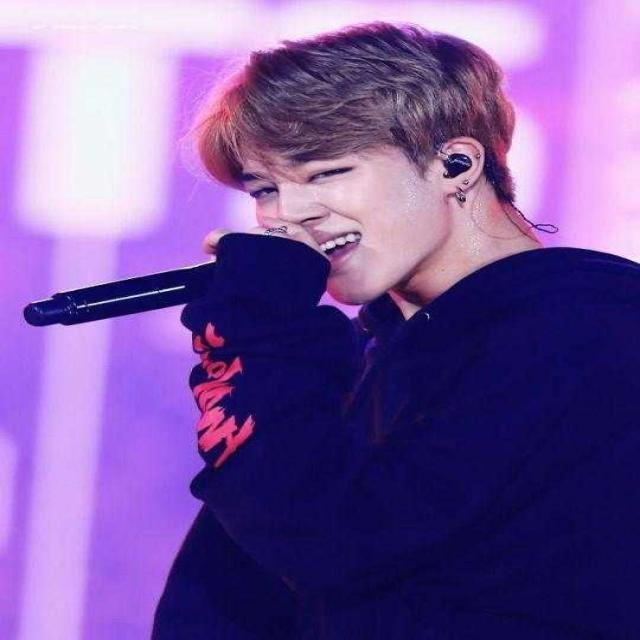microphone: (21, 239, 329, 332)
